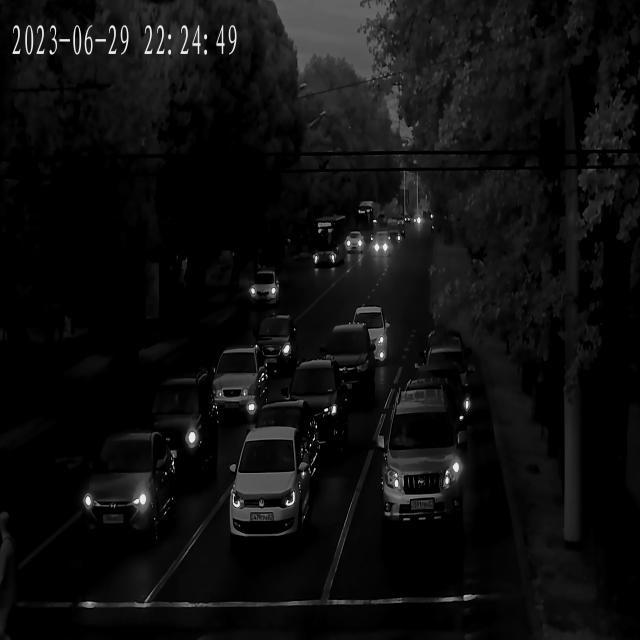Bus: (316, 217, 349, 261)
Car: (376, 390, 466, 522), (75, 434, 176, 544), (231, 430, 319, 548), (140, 376, 220, 486), (274, 359, 348, 448), (398, 369, 470, 432), (248, 404, 321, 466), (209, 347, 270, 419), (318, 327, 376, 395), (340, 308, 389, 368), (250, 318, 301, 375), (416, 348, 472, 397), (248, 274, 284, 310), (312, 248, 338, 270), (344, 234, 364, 254), (368, 237, 388, 256)
